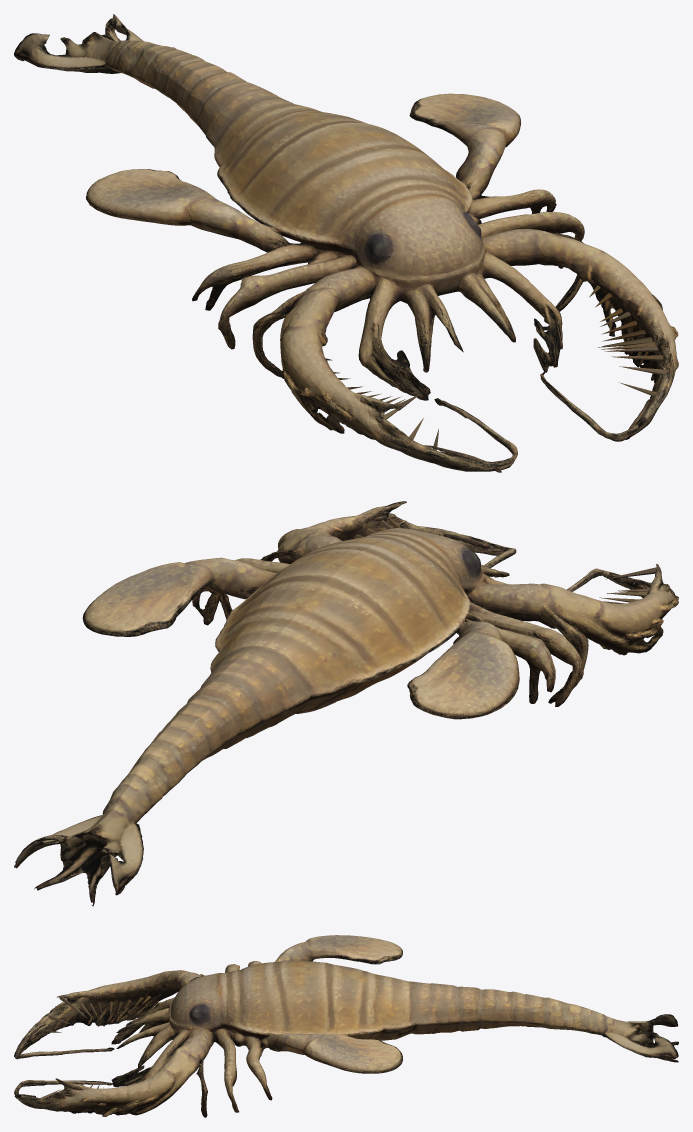
3 views of the same model, one above another, from view 1: azimuth 30°, elevation 25°; view 2: azimuth 150°, elevation 25°; view 3: azimuth 270°, elevation 25° (orthographic). The views are drawn at different scales.
Visible parts, largest first — view 1: world; view 2: world; view 3: world.
Part boxes in pixels (left/top/right/bottom): world: left=14, top=14, right=678, bottom=472; world: left=14, top=501, right=678, bottom=906; world: left=14, top=935, right=678, bottom=1117.
Bounding box in the file's own units: 0.3748 × 0.1423 × 0.78.
Materials: 1 (1 with a texture image).
